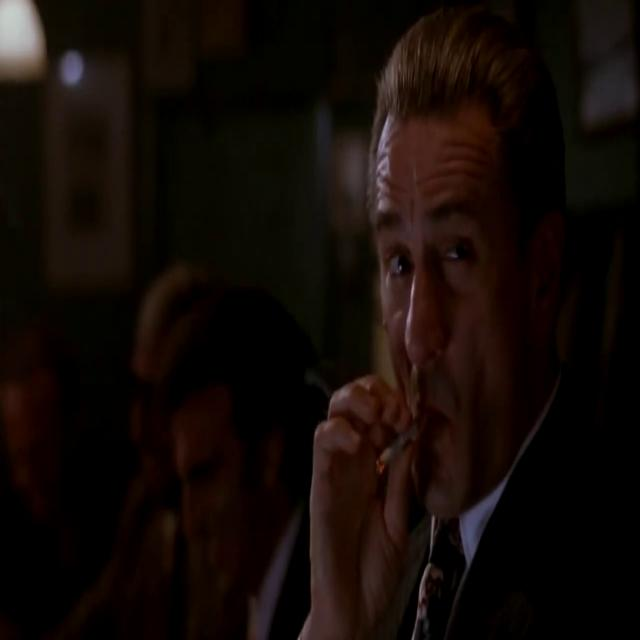Smooking: (355, 414, 434, 486)
